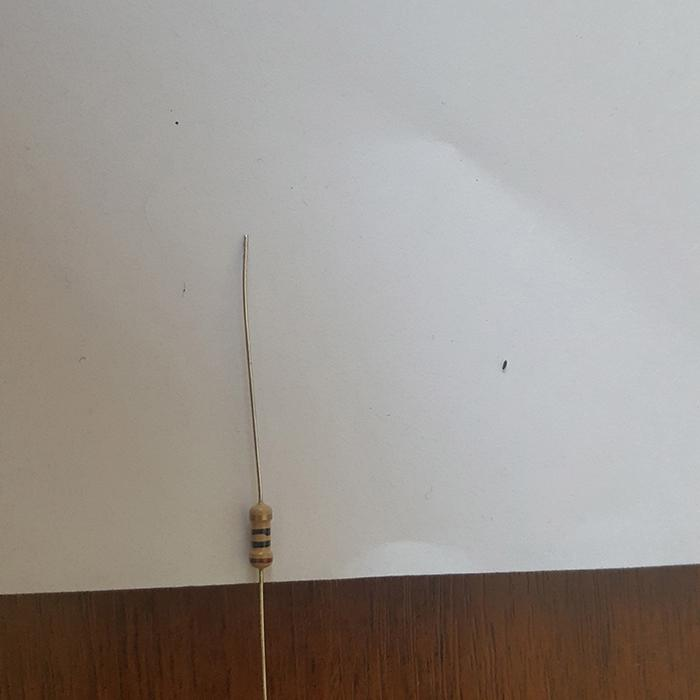resistor: (248, 499, 274, 569)
